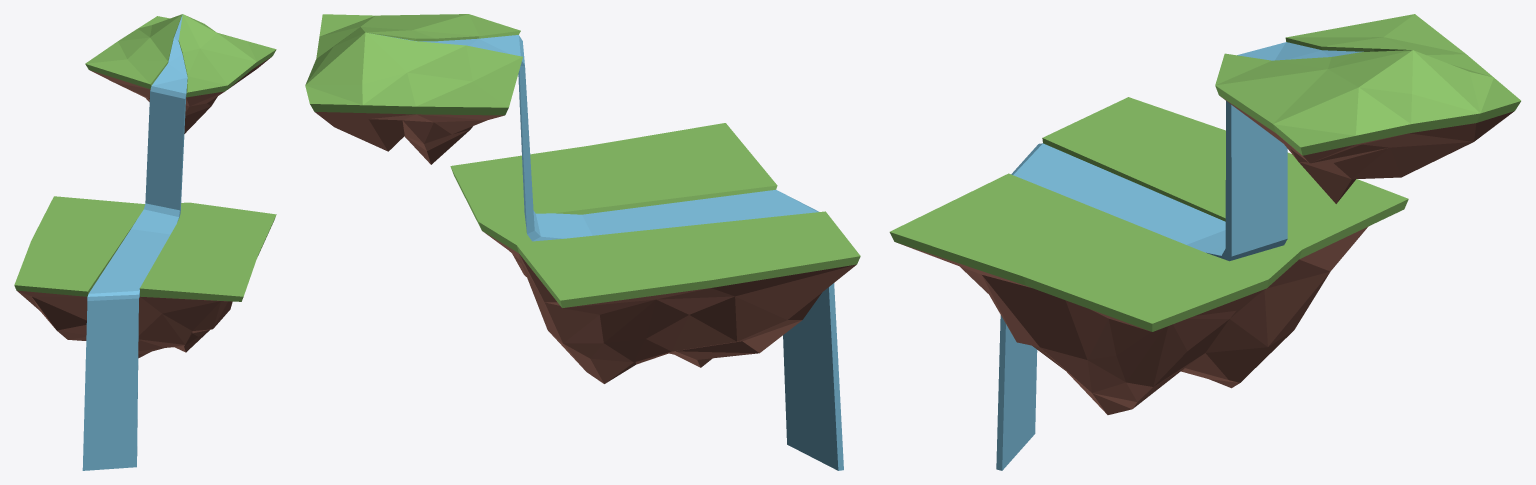
The model's file is Island10.fbx.
3 views of the same model, side by side, from view 1: azimuth 30°, elevation 25°; view 2: azimuth 150°, elevation 25°; view 3: azimuth 270°, elevation 25° (orthographic). The views are drawn at different scales.
Parts seen in each view (by area): view 1: Island10; view 2: Island10; view 3: Island10.
Part boxes in pixels (x1,y1,x2,y2): Island10: [14, 14, 276, 470]; Island10: [305, 14, 860, 470]; Island10: [889, 14, 1520, 470].
Bounding box in the file's own units: 6.19 × 6.14 × 6.28.
